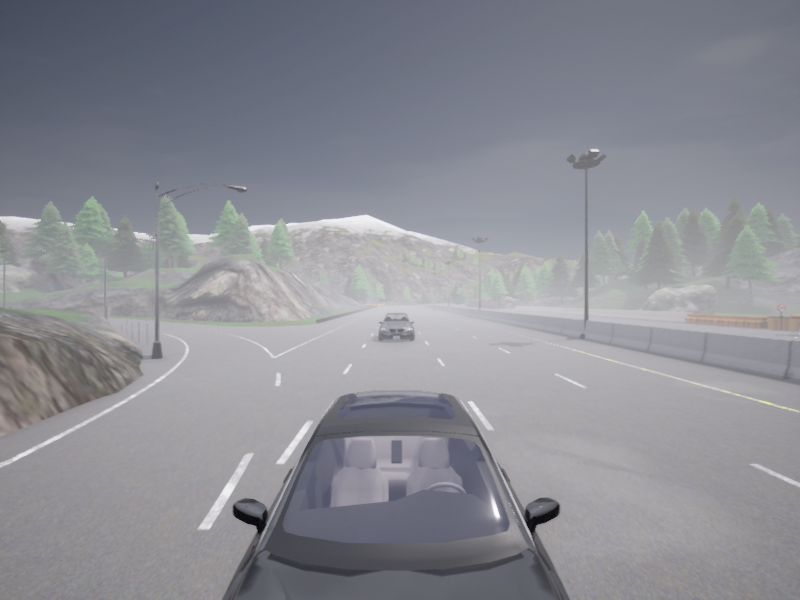vehicle: (222, 390, 569, 599), (378, 313, 414, 341), (457, 303, 461, 304), (466, 302, 468, 304), (464, 302, 466, 304)
